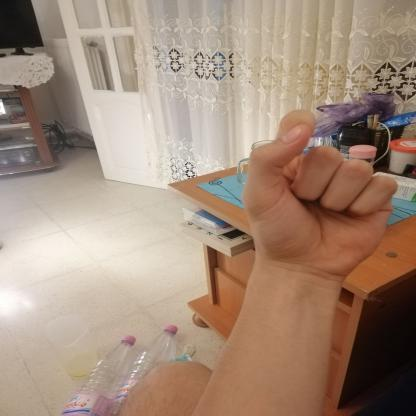FAA: (232, 102, 410, 288)
